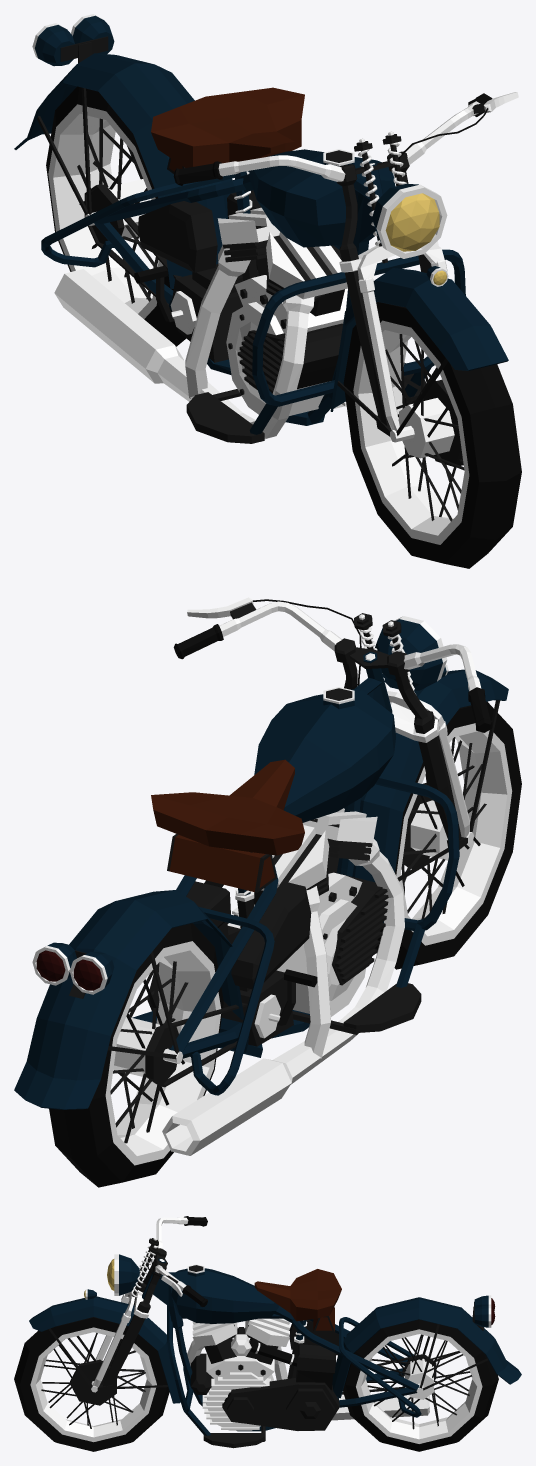
File: Motorbike_03.FBX
3 renders of one model, top to bottom at view 1: azimuth 30°, elevation 25°; view 2: azimuth 150°, elevation 25°; view 3: azimuth 270°, elevation 25°, orthographic. The views are drawn at different scales.
Parts seen in each view (by area): view 1: wheel_f, Motorcycle_03, motor, exhaust, wheel_b, steering, mudguard_b, seat, mudguard_f, lights_b, headLights, lights_f (+2 smaller); view 2: Motorcycle_03, motor, wheel_b, mudguard_b, wheel_f, exhaust, steering, seat, mudguard_f, toolBox, lights_f, lights_b (+3 smaller); view 3: motor, Motorcycle_03, wheel_f, wheel_b, mudguard_b, steering, mudguard_f, seat, exhaust, lights_f, lights_b, toolBox.
Part boxes in pixels (bbox=[...]): wheel_f: bbox=[343, 302, 521, 568]; Motorcycle_03: bbox=[41, 149, 465, 443]; motor: bbox=[134, 190, 347, 415]; exhaust: bbox=[54, 245, 314, 439]; wheel_b: bbox=[46, 86, 186, 346]; steering: bbox=[173, 93, 492, 442]; mudguard_b: bbox=[14, 53, 233, 288]; seat: bbox=[151, 87, 304, 213]; mudguard_f: bbox=[330, 268, 508, 435]; lights_b: bbox=[32, 14, 114, 66]; headLights: bbox=[385, 193, 446, 285]; lights_f: bbox=[372, 183, 448, 286]; Motorcycle_03: bbox=[132, 651, 459, 1095]; motor: bbox=[147, 808, 388, 1046]; wheel_b: bbox=[49, 923, 223, 1187]; mudguard_b: bbox=[14, 890, 243, 1109]; wheel_f: bbox=[375, 701, 521, 969]; exhaust: bbox=[162, 839, 404, 1155]; steering: bbox=[173, 601, 492, 849]; seat: bbox=[151, 759, 304, 896]; mudguard_f: bbox=[336, 669, 508, 882]; toolBox: bbox=[167, 834, 276, 892]; lights_f: bbox=[375, 616, 448, 690]; lights_b: bbox=[32, 942, 114, 998]; motor: bbox=[191, 1318, 339, 1430]; Motorcycle_03: bbox=[142, 1258, 423, 1448]; wheel_f: bbox=[14, 1317, 169, 1451]; wheel_b: bbox=[343, 1319, 498, 1451]; mudguard_b: bbox=[332, 1297, 521, 1398]; steering: bbox=[91, 1216, 207, 1392]; mudguard_f: bbox=[29, 1296, 180, 1403]; seat: bbox=[254, 1269, 341, 1340]; exhaust: bbox=[187, 1340, 429, 1420]; lights_f: bbox=[85, 1254, 139, 1299]; lights_b: bbox=[472, 1295, 491, 1330]; toolBox: bbox=[313, 1307, 334, 1332].
Bounding box in the file's own units: 10.92 × 12.36 × 27.16.
